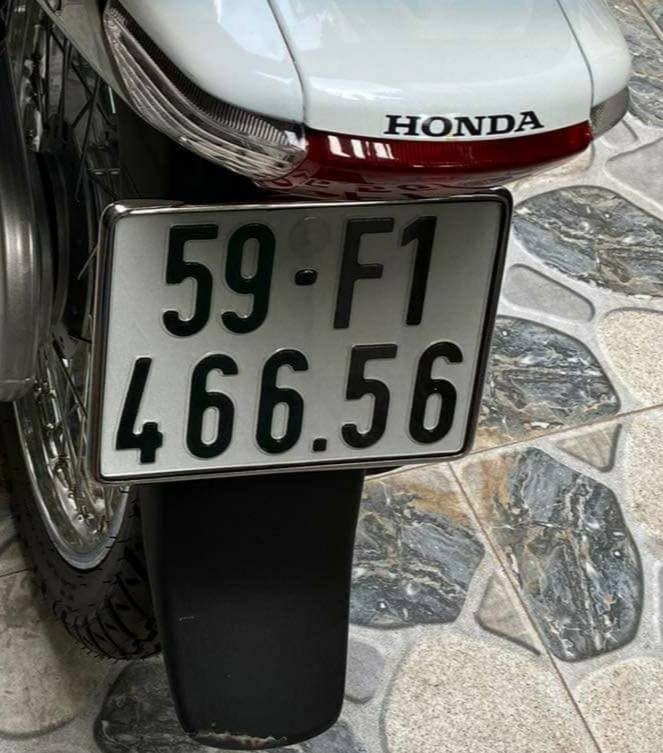bien_so: (75, 175, 533, 495)
